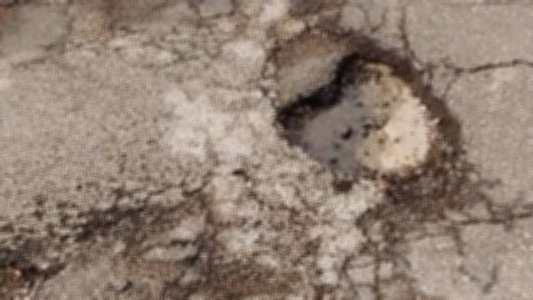pothole: (266, 39, 467, 194), (0, 257, 46, 299)
